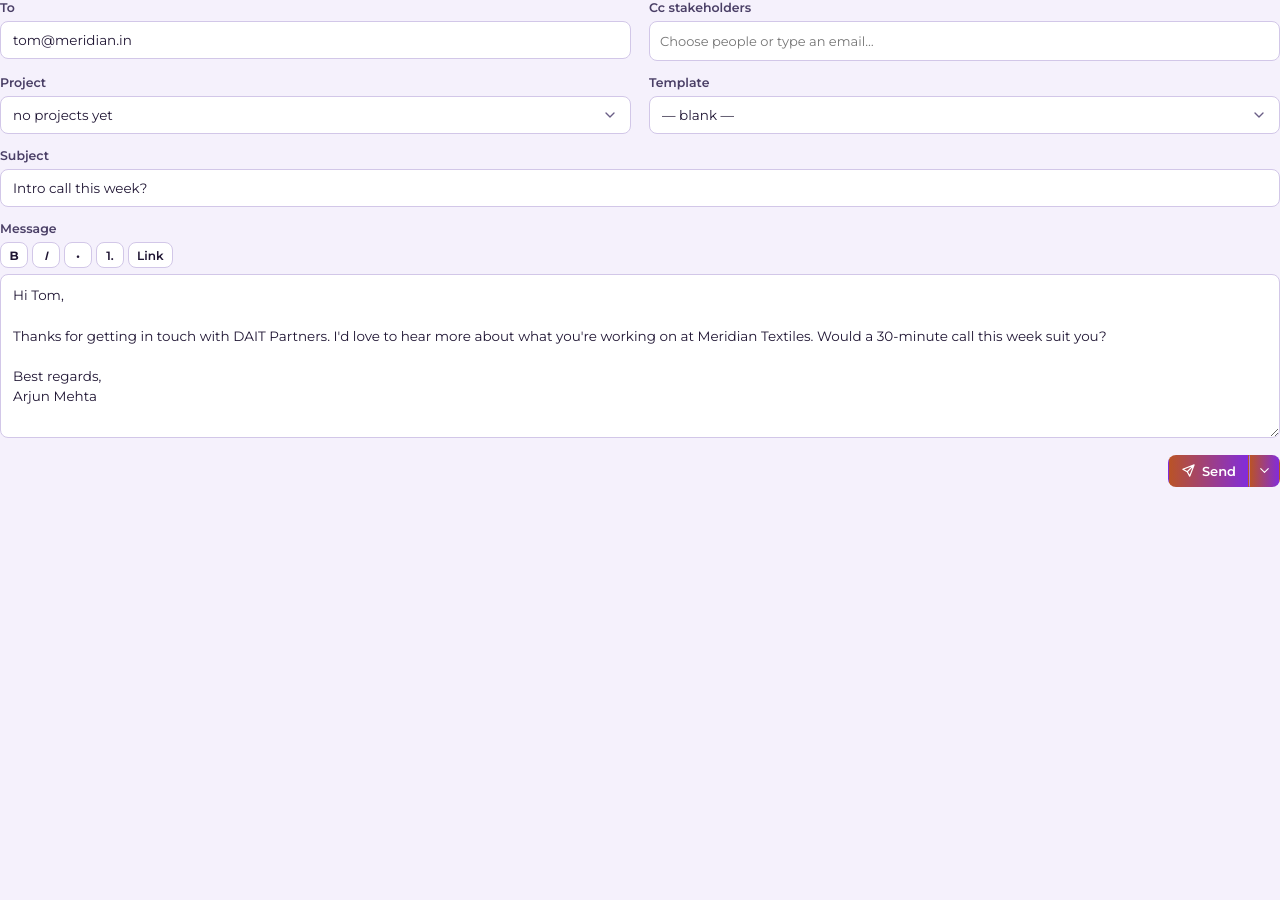
Test: lead email form: Project picker (release 3B) › an empty Subject is marked and focused instead of sending (review #12); a server refusal is said in the follow-up box
The width and height of the screenshot is (1280, 900).
Clear the field labelled "Subject" at (640, 188), box [0,169,1279,207]
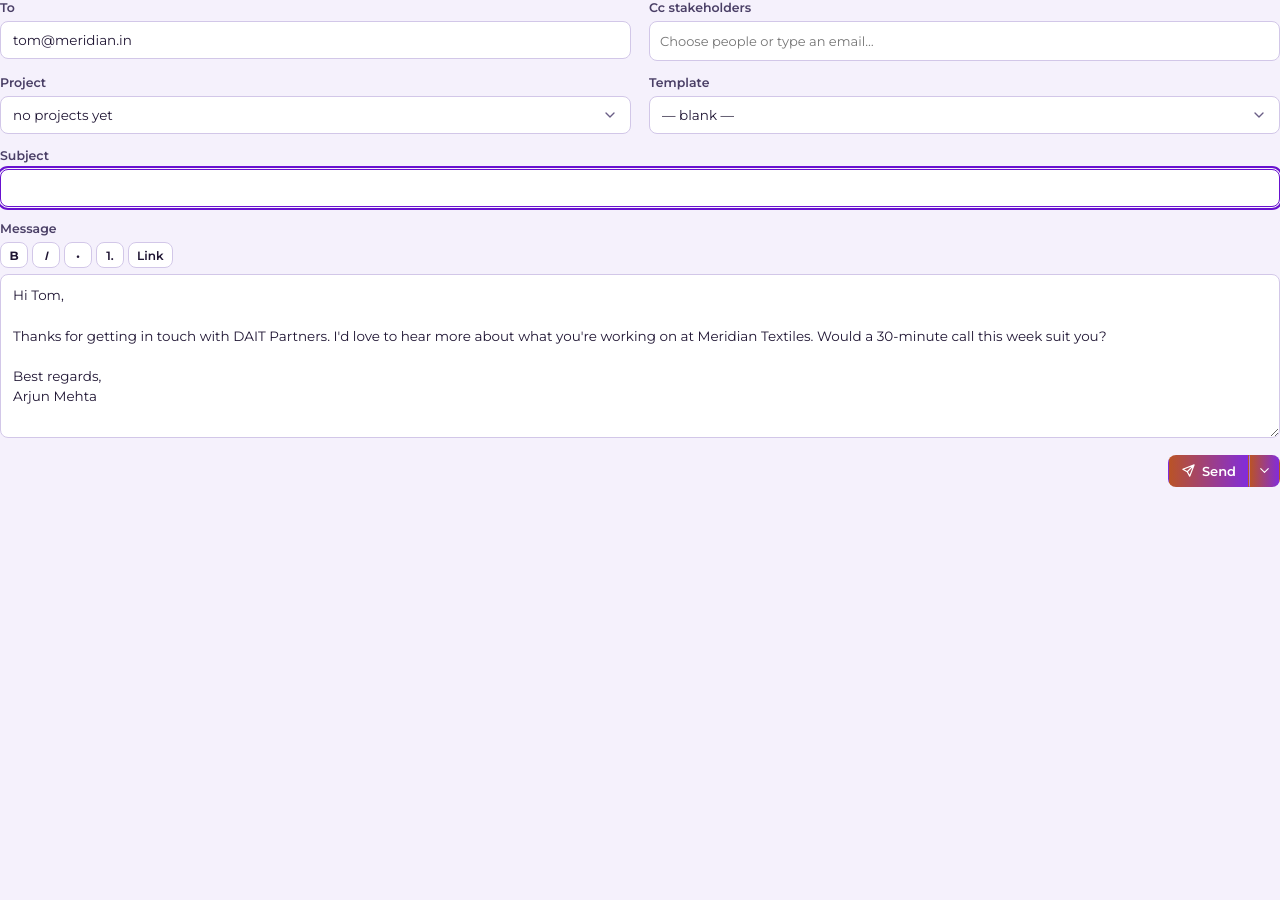
Click the button "Send" at (1208, 471), box [1168,455,1249,487]
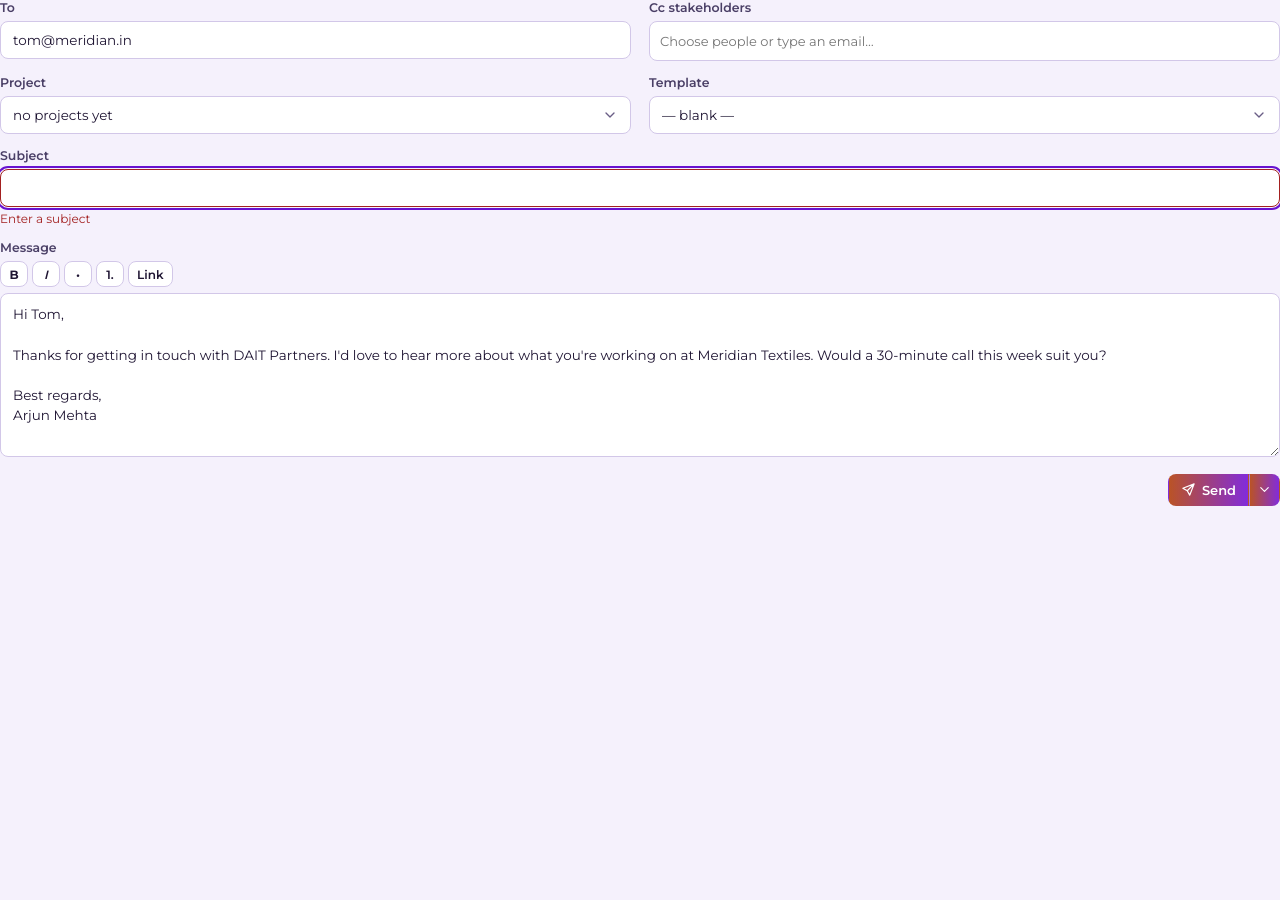
Check: the text "Enter a subject" is shown, box [0,211,90,226]
Type "Hello" into the field labelled "Subject" at (640, 188), box [0,169,1279,207]
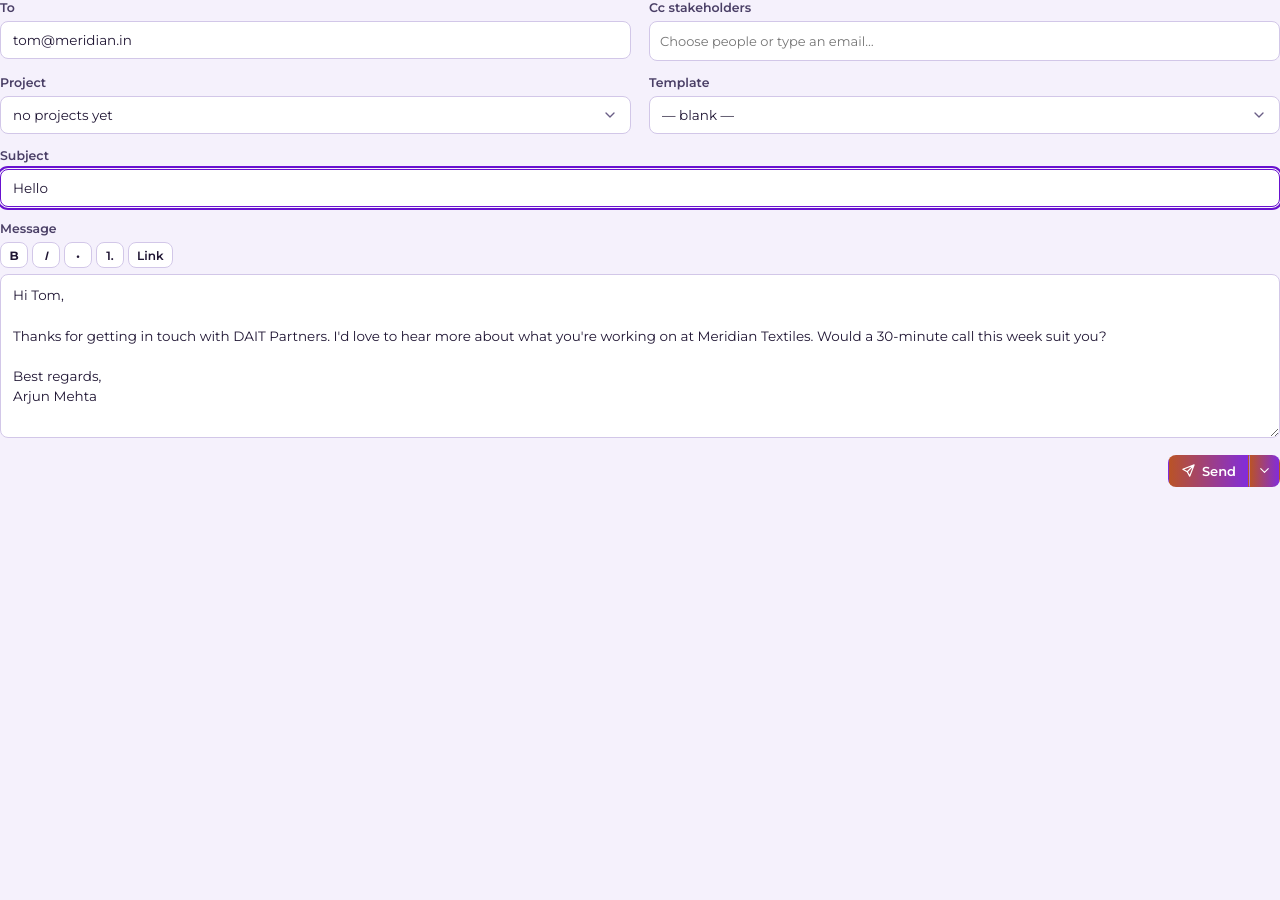
Check: the field labelled "Subject" does not have attribute aria-invalid="true", box [0,169,1279,207]
Click the button "Send" at (1208, 471), box [1168,455,1249,487]
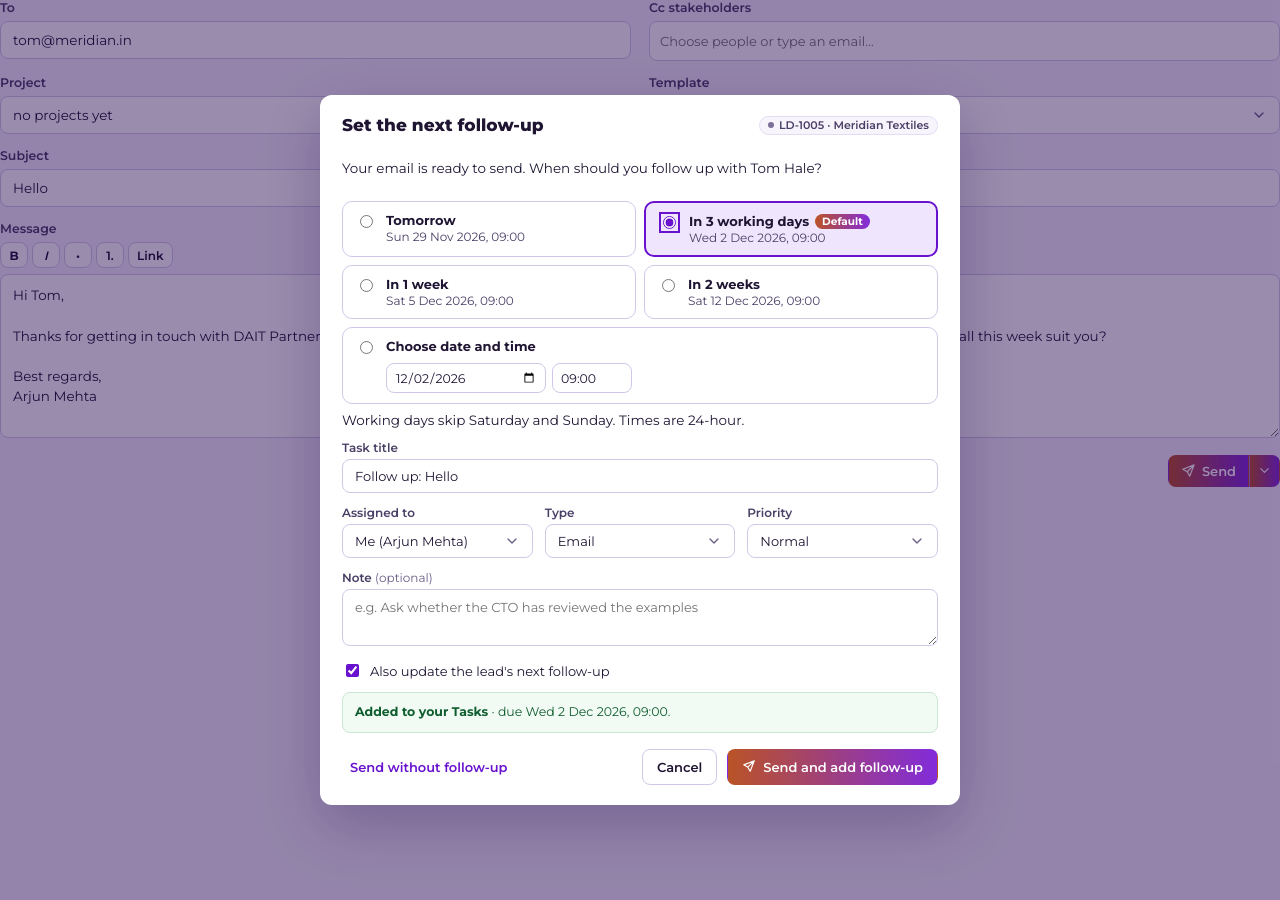
Click the button "Send without follow-up" at (429, 767), box [342,759,516,775]
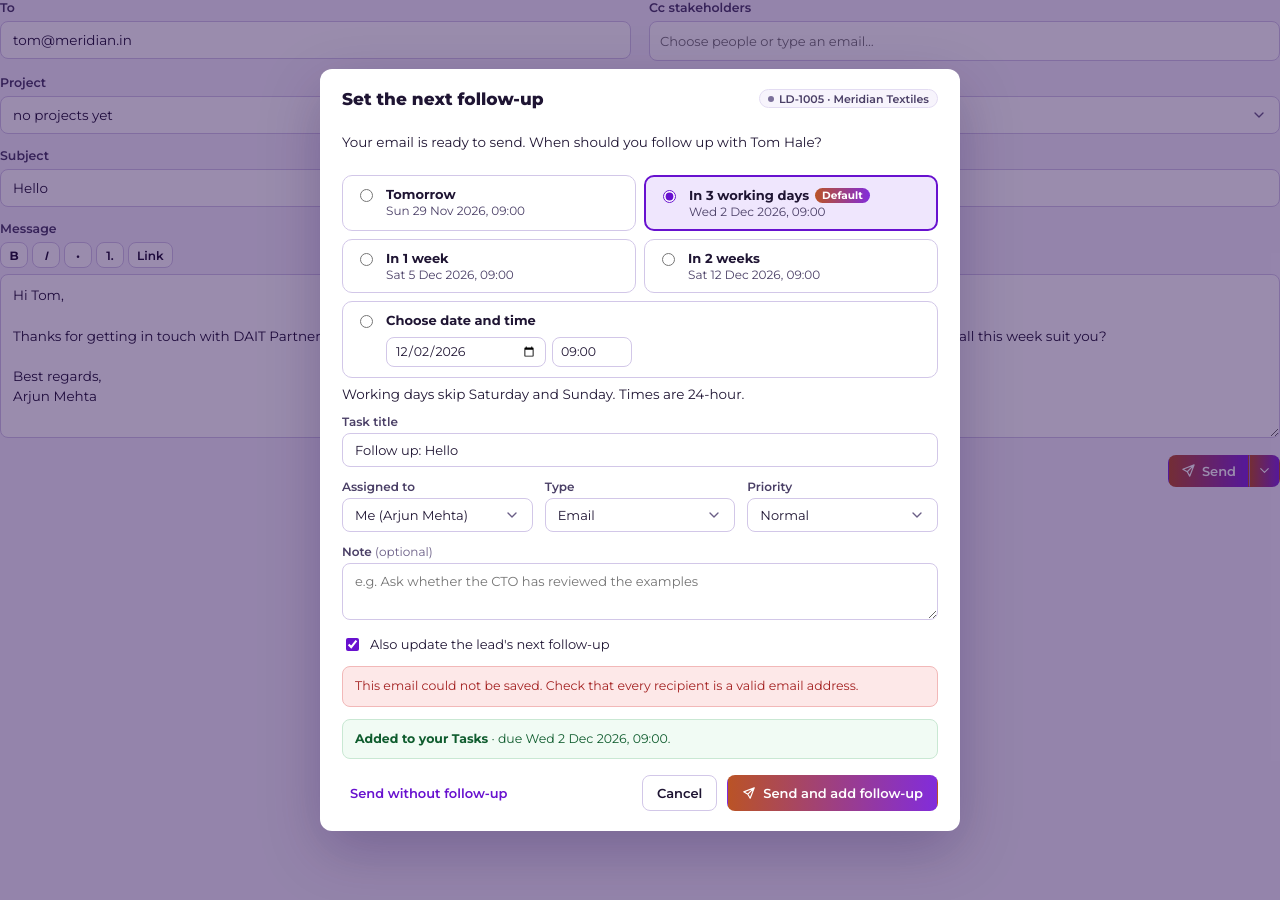
Check: the text "This email could not be saved. Check that every recipient is a valid email address." is shown, box [355,678,858,693]
